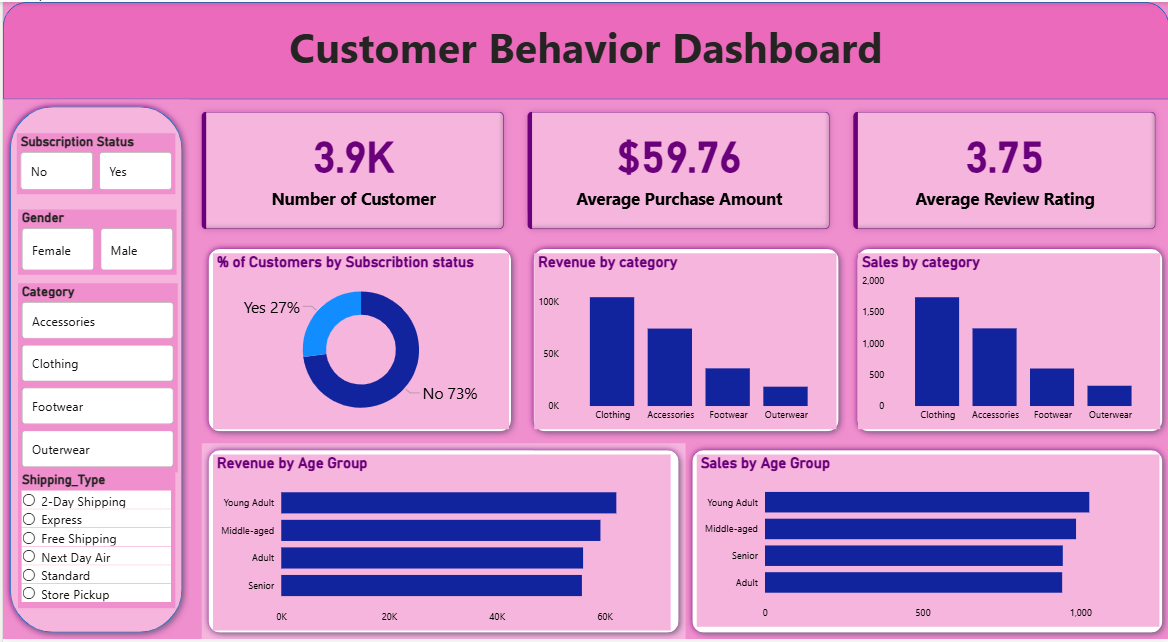

The dashboard page shown, as its layout file describes it:
{"tool":"powerbi","page":{"name":"Page 1","canvas":[1500,820],"ordinal":0},"visuals":[{"type":"cardVisual","fields":{"Data":["customer_behavior customer.Number of Customer","customer_behavior customer.Average Purchase Amount","customer_behavior customer.Average Review Rating"]},"box":[239.6,125.4,1260.7,183.3],"z":0},{"type":"shape","box":[0,0,1500.3,125.4],"z":1000},{"type":"textbox","box":[0,16.1,1500.3,85.2],"z":2000},{"type":"shape","box":[255.7,308.7,406.8,252.5],"z":3000},{"type":"donutChart","title":"% of Customers by Subscribtion status","fields":{"Category":["customer_behavior customer.subscription_status"],"Y":["CountNonNull(customer_behavior customer.customer_id)"]},"box":[270.2,323.2,381.1,226.7],"z":4000},{"type":"shape","box":[673,308.7,410.1,252.5],"z":5000},{"type":"shape","box":[1089.9,308.7,410.1,252.5],"z":6000},{"type":"clusteredColumnChart","title":"Revenue by category","fields":{"Y":["Sum(customer_behavior customer.purchase_amount)"],"Category":["customer_behavior customer.category"]},"box":[683.4,323.2,389.2,226.7],"z":7000},{"type":"clusteredColumnChart","title":"Sales by category","fields":{"Category":["customer_behavior customer.category"],"Y":["CountNonNull(customer_behavior customer.customer_id)"]},"box":[1099.9,323.2,389.2,226.7],"z":8000},{"type":"shape","box":[0,125.4,239.6,694.7],"z":9000},{"type":"advancedSlicerVisual","fields":{"Values":["customer_behavior customer.subscription_status"]},"box":[17.7,168.8,204.2,78.8],"z":10000},{"type":"advancedSlicerVisual","fields":{"Values":["customer_behavior customer.gender"]},"box":[19.3,266.9,204.2,83.6],"z":11000},{"type":"advancedSlicerVisual","fields":{"Values":["customer_behavior customer.category"]},"box":[19.3,361.8,205.8,242.8],"z":12000},{"type":"listSlicer","fields":{"Values":["customer_behavior customer.shipping_type"]},"box":[19.3,604.6,202.6,175.3],"z":13000},{"type":"shape","box":[878,567.6,622.3,252.5],"z":14000},{"type":"clusteredBarChart","title":"Sales by Age Group","fields":{"Category":["customer_behavior customer.age_group"],"Y":["CountNonNull(customer_behavior customer.customer_id)"]},"box":[892.5,582.1,595,221.9],"z":15000},{"type":"shape","box":[255.7,567.6,622.3,252.5],"z":16000},{"type":"clusteredBarChart","title":"Revenue by Age Group","fields":{"Category":["customer_behavior customer.age_group"],"Y":["Sum(customer_behavior customer.purchase_amount)"]},"box":[270.2,582.1,588.6,226.7],"z":17000}]}

Visuals, with their boxes in screenshot pixels (x1, y1, x2, y2), scaled from the page's 1500x820 canvas onto the 1168x642 screenshot:
cardVisual - customer_behavior customer.Number of Customer x customer_behavior customer.Average Purchase Amount: Rect(187, 98, 1167, 242)
shape: Rect(0, 0, 1167, 98)
textbox: Rect(0, 13, 1167, 79)
shape: Rect(199, 242, 516, 439)
"% of Customers by Subscribtion status" donutChart: Rect(210, 253, 507, 431)
shape: Rect(524, 242, 843, 439)
shape: Rect(849, 242, 1167, 439)
"Revenue by category" clusteredColumnChart: Rect(532, 253, 835, 431)
"Sales by category" clusteredColumnChart: Rect(856, 253, 1160, 431)
shape: Rect(0, 98, 187, 641)
advancedSlicerVisual - customer_behavior customer.subscription_status: Rect(14, 132, 173, 194)
advancedSlicerVisual - customer_behavior customer.gender: Rect(15, 209, 174, 274)
advancedSlicerVisual - customer_behavior customer.category: Rect(15, 283, 175, 473)
listSlicer - customer_behavior customer.shipping_type: Rect(15, 473, 173, 611)
shape: Rect(684, 444, 1167, 641)
"Sales by Age Group" clusteredBarChart: Rect(695, 456, 1158, 629)
shape: Rect(199, 444, 684, 641)
"Revenue by Age Group" clusteredBarChart: Rect(210, 456, 669, 633)
